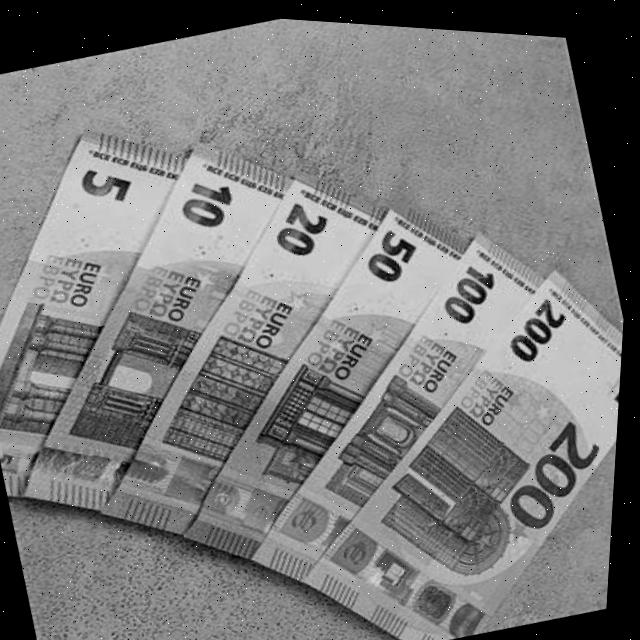banknote: (30, 136, 467, 561), (112, 163, 544, 589), (182, 193, 622, 607), (0, 103, 381, 543), (240, 229, 630, 640), (0, 94, 277, 510), (486, 396, 623, 538), (351, 204, 438, 291), (497, 283, 588, 365), (263, 180, 345, 268), (169, 162, 249, 239), (435, 252, 513, 328), (74, 150, 150, 216)
